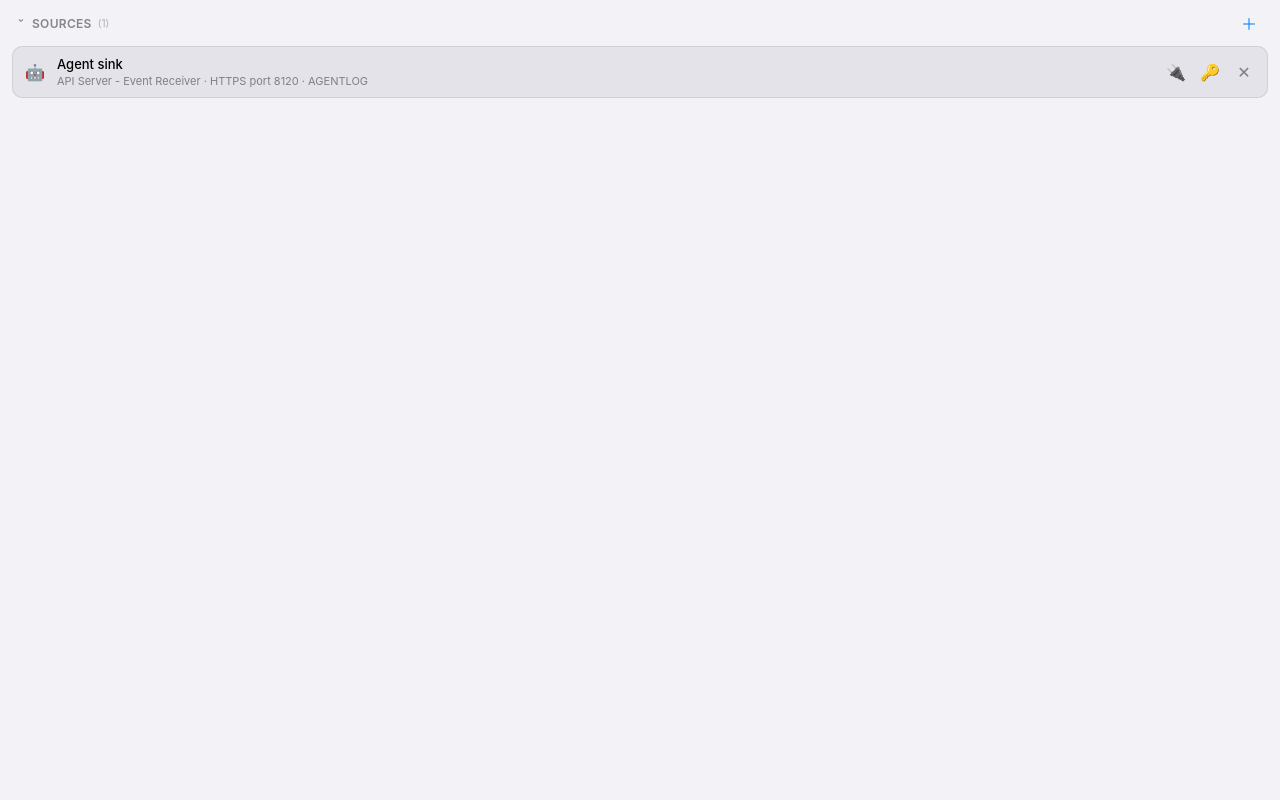
Scenario: SourcesSection — regenerate token › asks for confirmation before regenerating, and only then mints a new token
Expected: the text "Agent sink" is shown, [57,56,123,72]
# Click the 🔑 regenerate button — nothing should be minted yet.
Click the button named "Regenerate token". click: (1210, 72)
box: [1199,61,1221,83]
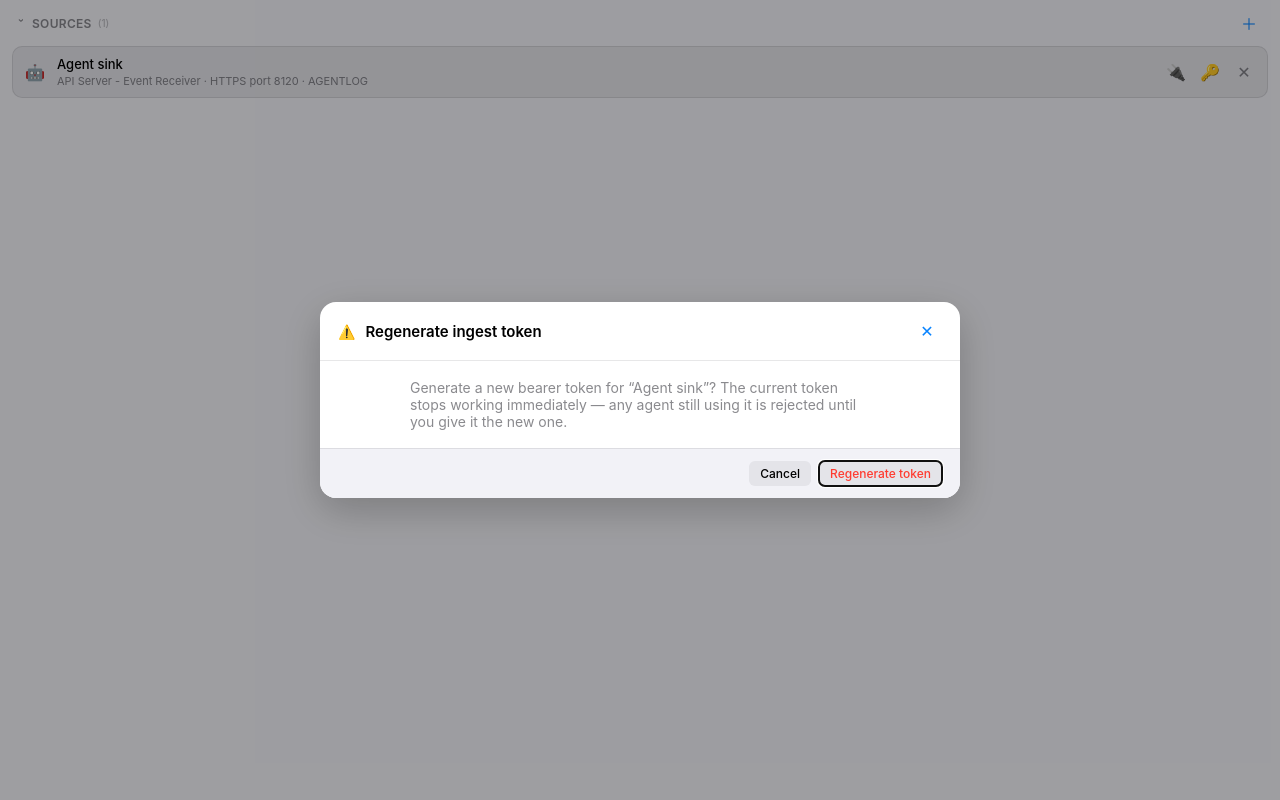
Result: the text "Regenerate ingest token" is shown at [366,322,542,340]
Result: the text "current token stops working immediately" is shown at [410,379,856,430]
Click the button "Regenerate token". click: (880, 474)
box: [819,461,942,486]
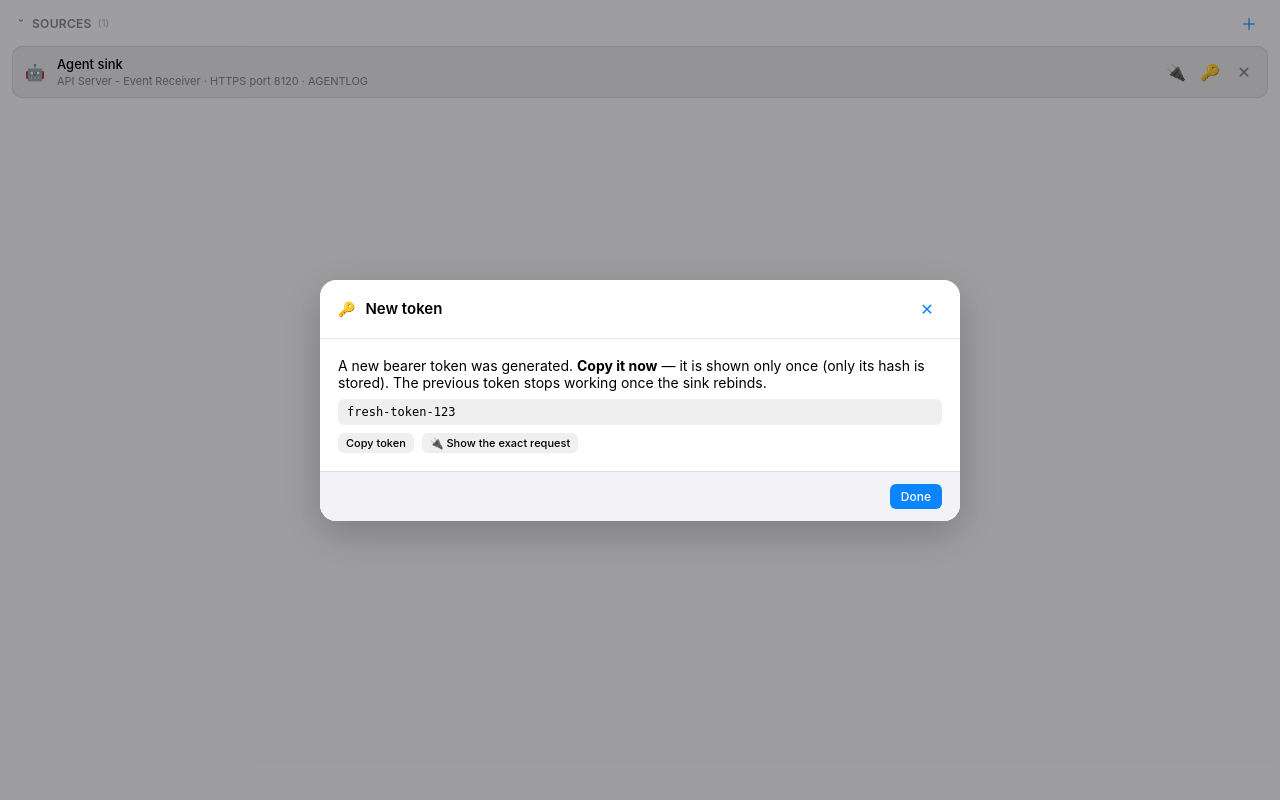
Result: the field showing "fresh-token-123" is shown at [338,398,942,424]
